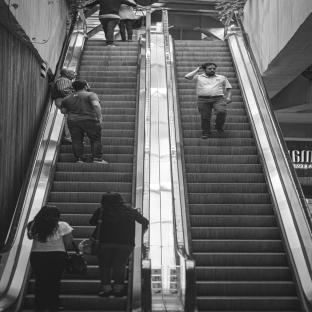Human: (89, 192, 149, 297), (27, 205, 73, 312), (60, 80, 106, 163), (185, 62, 232, 139), (82, 0, 147, 47), (50, 68, 77, 109), (119, 4, 135, 41), (64, 114, 72, 143)
